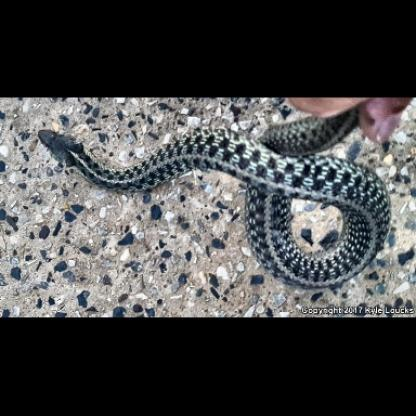Snake: (34, 114, 391, 290)
